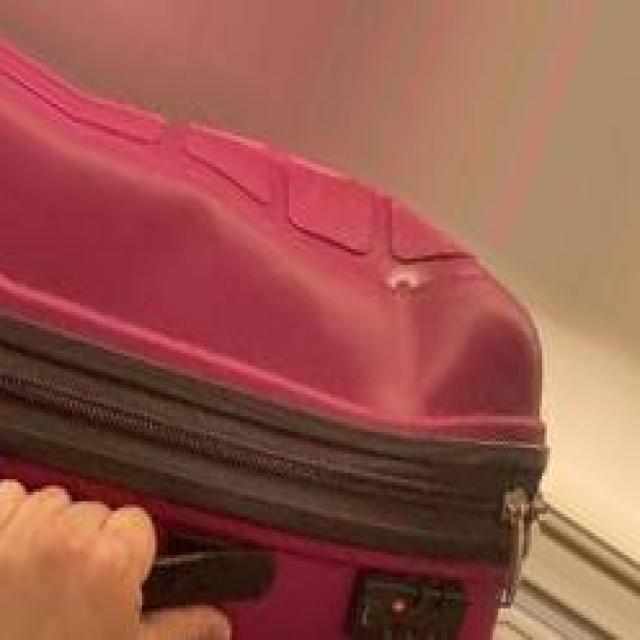Damage-bag: (266, 152, 540, 418)
